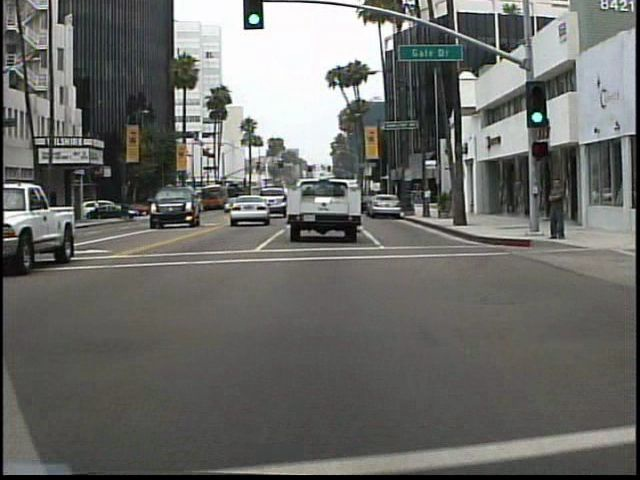person: (543, 171, 568, 246)
